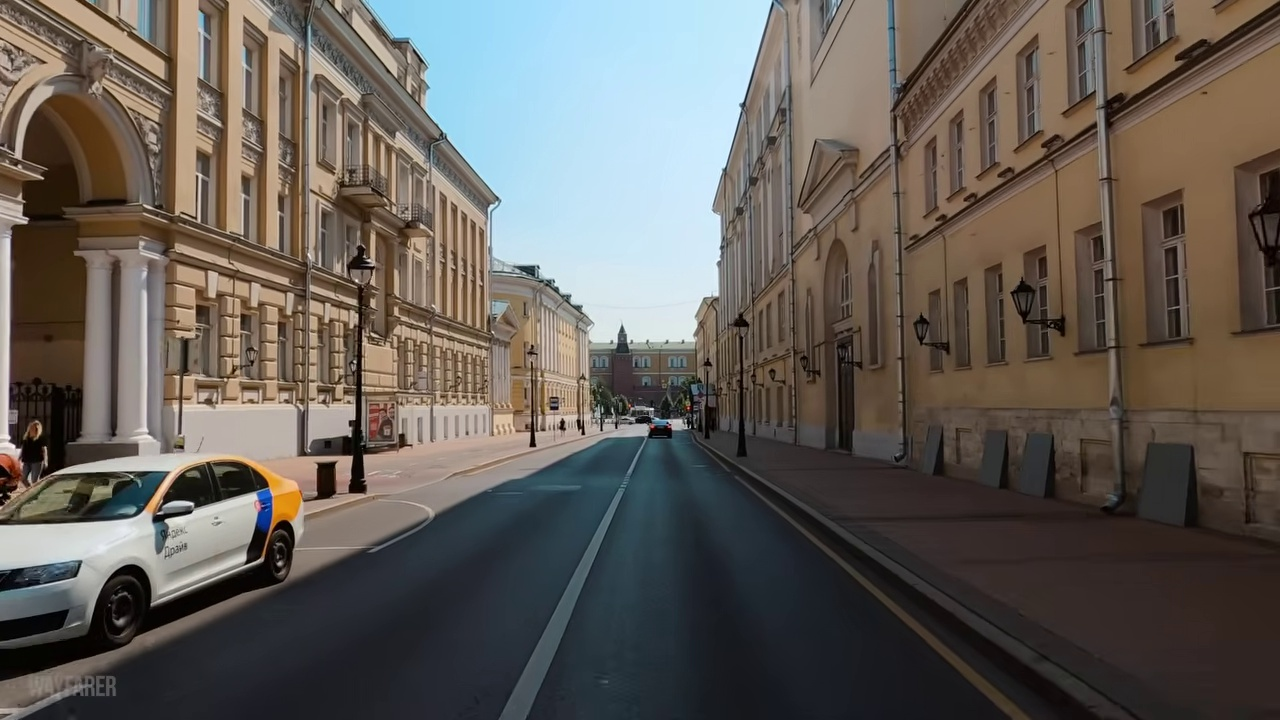apagada: (350, 261, 375, 290)
